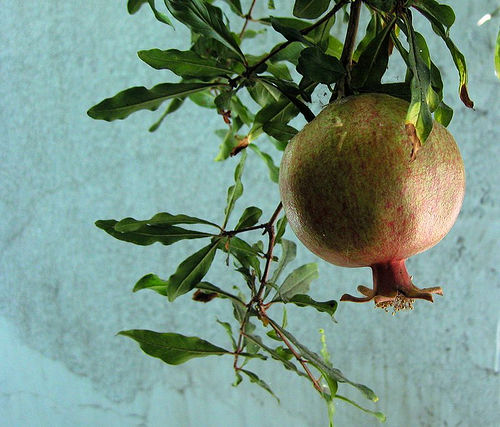pomogranate: (277, 88, 467, 312)
